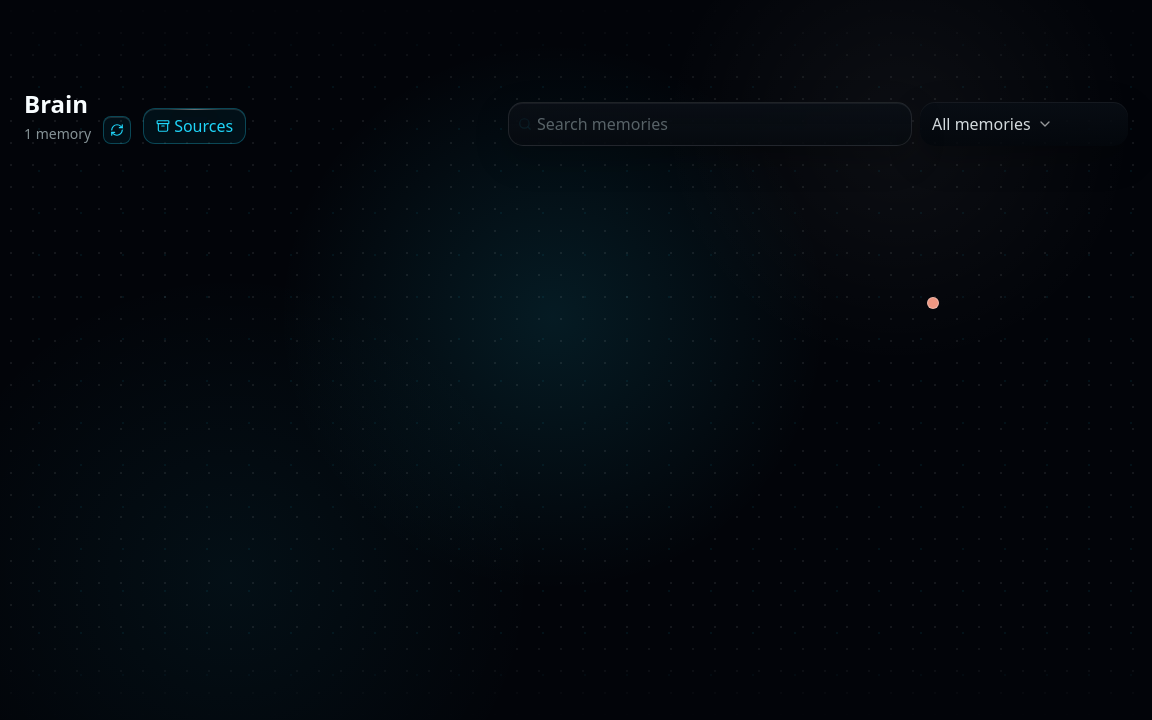
Test: BrainPage › opens a memory details modal when a node is clicked
Expected: the dropdown named "Filter brain memories by category" is shown, [920,102,1128,146]
Expected: the search field named "Search brain memories" is shown, [508,102,912,146]
Hover over the button named "Decision: data privacy" at (933, 303), box [917,287,949,319]
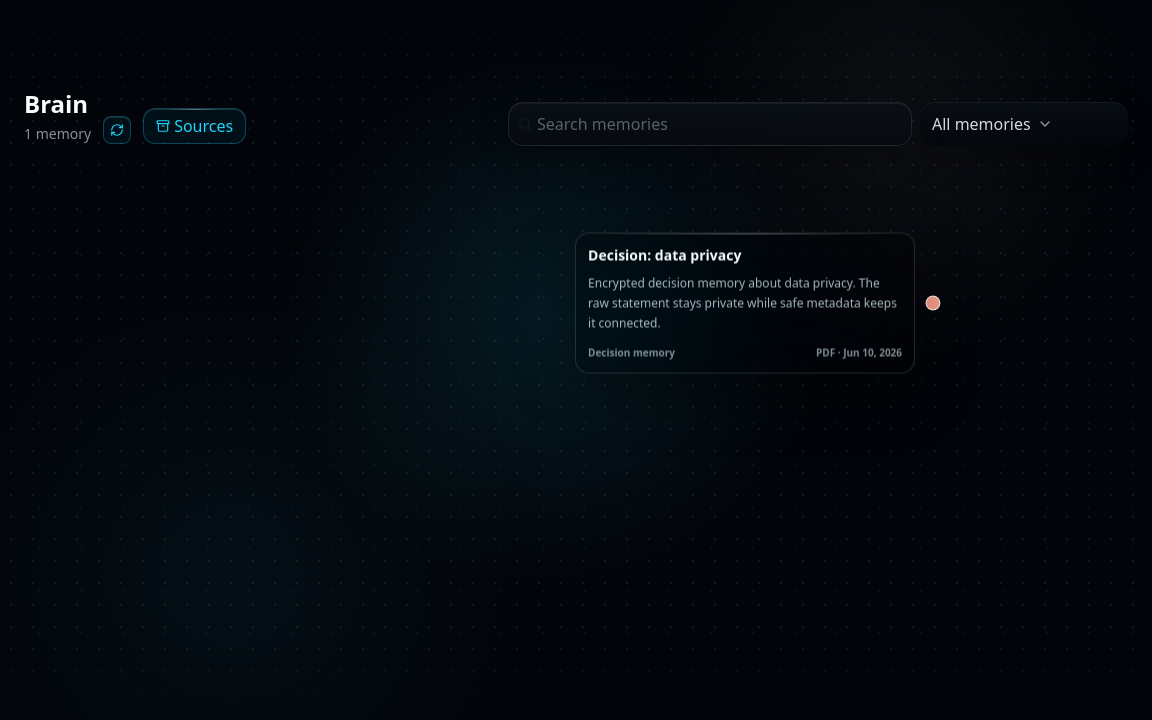
Click the button named "Decision: data privacy" at (933, 303), box [917,287,949,319]
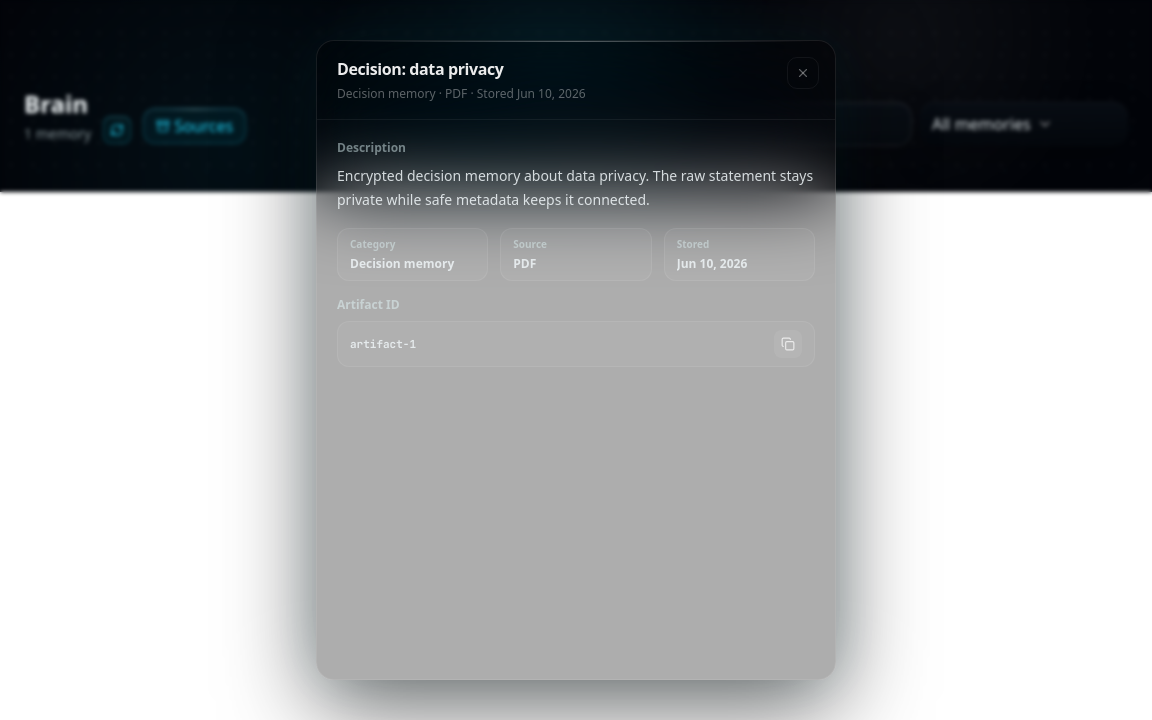
Now the heading "Decision: data privacy" is shown, box [337,58,504,80]
Now the text "Encrypted decision memory about data privacy. The raw statement stays private while safe metadata keeps it connected." is shown, box [337,166,813,209]
Now the text "Description" is shown, box [337,139,406,156]
